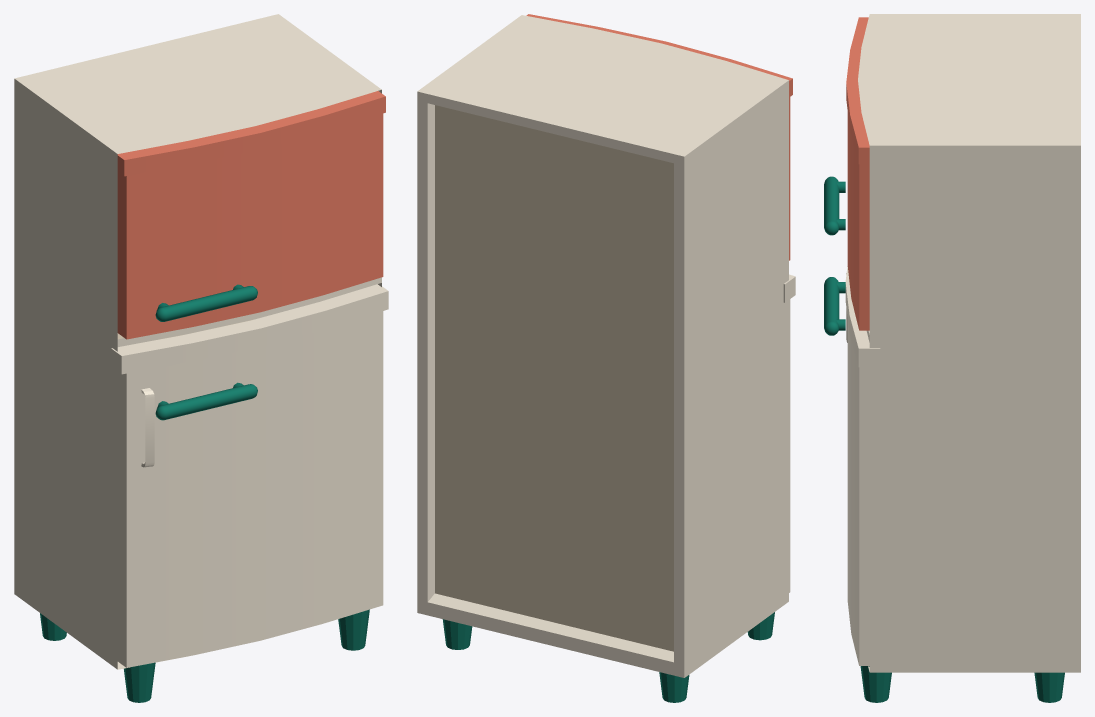
Rendered from fridge_c.glb.
3 renders of one model, left to right at view 1: azimuth 30°, elevation 25°; view 2: azimuth 150°, elevation 25°; view 3: azimuth 270°, elevation 25°, orthographic. The views are drawn at different scales.
Parts seen in each view (by area): view 1: body, door, door_top; view 2: body, door_top, door; view 3: body, door, door_top.
Part boxes in pixels (left/top/right/bottom): body: left=14, top=14, right=388, bottom=702; door: left=117, top=311, right=383, bottom=667; door_top: left=117, top=91, right=385, bottom=339; body: left=417, top=15, right=795, bottom=702; door_top: left=526, top=14, right=792, bottom=80; door: left=789, top=299, right=790, bottom=592; body: left=845, top=14, right=1080, bottom=702; door: left=824, top=273, right=869, bottom=665; door_top: left=824, top=17, right=869, bottom=329.
Size of the model in its own units: 0.91 by 1.8 by 0.742.
